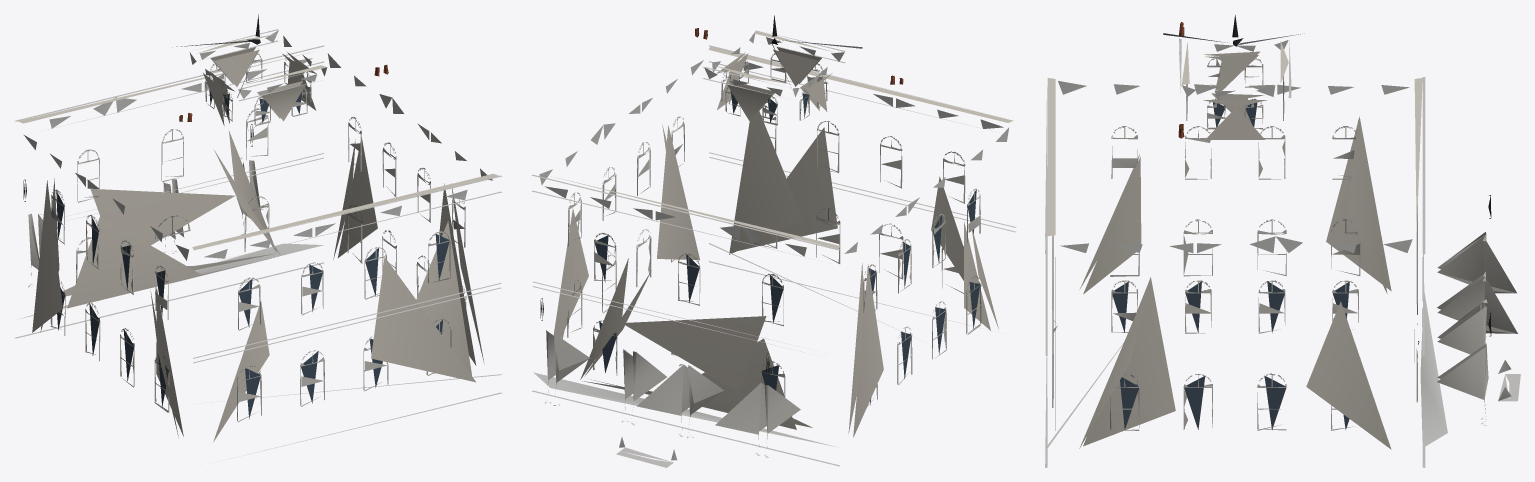
The model's file is italianate-mansion_mirror.glb.
The picture shows the model from 3 angles, left to right: view 1: azimuth 30°, elevation 25°; view 2: azimuth 150°, elevation 25°; view 3: azimuth 270°, elevation 25°; orthographic projection. The views are drawn at different scales.
Parts seen in each view (by area): view 1: italianate-mansion_mirror; view 2: italianate-mansion_mirror; view 3: italianate-mansion_mirror.
Boxes of the visible parts, x1,y1,x2,y2 form: italianate-mansion_mirror: (14, 14, 502, 461); italianate-mansion_mirror: (531, 15, 1016, 467); italianate-mansion_mirror: (1045, 15, 1520, 467).
Bounding box in the file's own units: 14.2 × 15.4 × 17.77.
